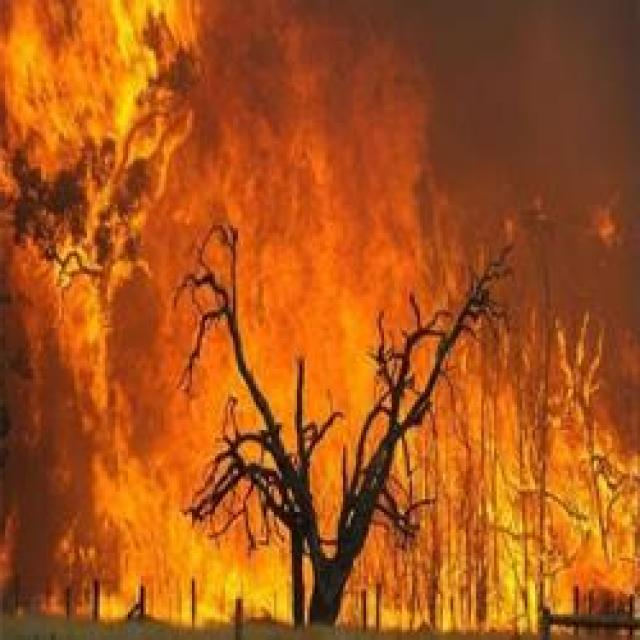fire: (0, 1, 191, 122), (536, 402, 640, 595), (102, 538, 286, 622), (472, 458, 534, 638)
smoke: (0, 364, 94, 596)
